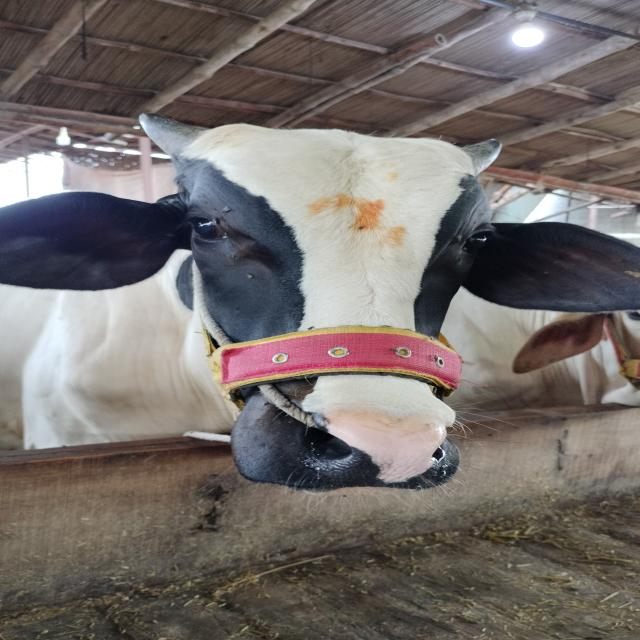muzzles: (275, 399, 471, 496)
